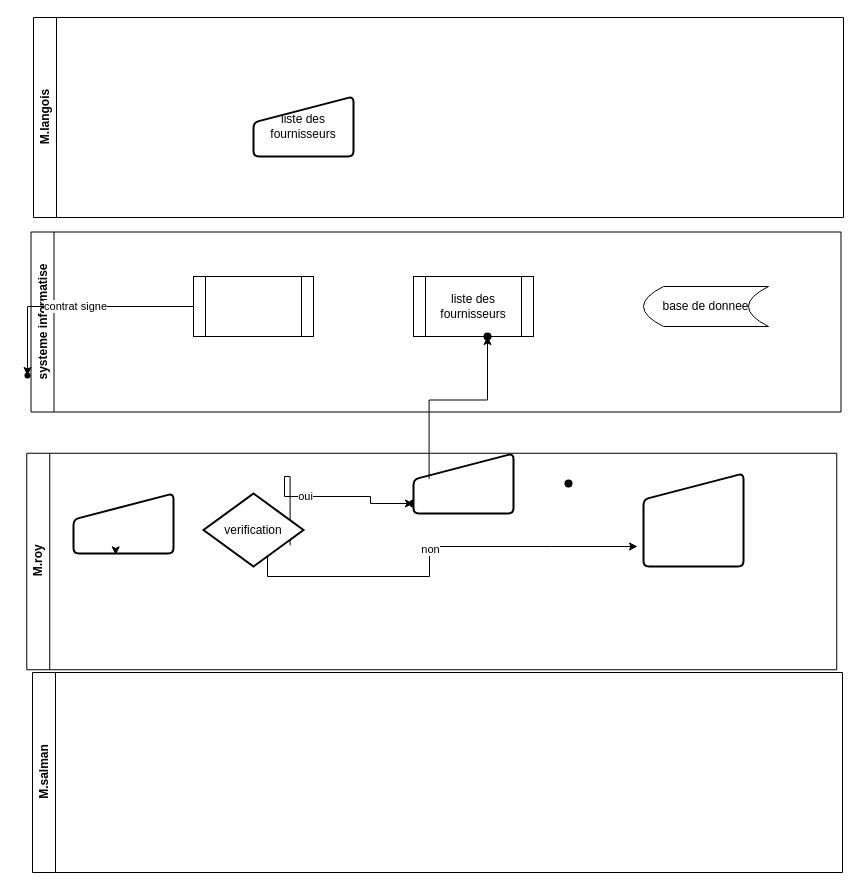
The diagram is 861 pixels wide and 890 high, and some of its shapes have lost their labels. The box of each missing label's shape, as (x1, y1, x2, y2) in pixels:
ajout sur la liste des contrat: (412, 452, 514, 514)
creation d un nouveau dossier pour le fournisseur: (642, 472, 744, 567)
Maj des contrats de promesse: (192, 276, 314, 336)
reception des contrat signes: (72, 492, 174, 554)
